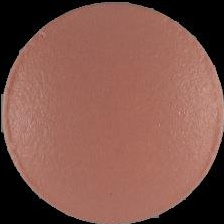55154-6909: (0, 0, 224, 224)
